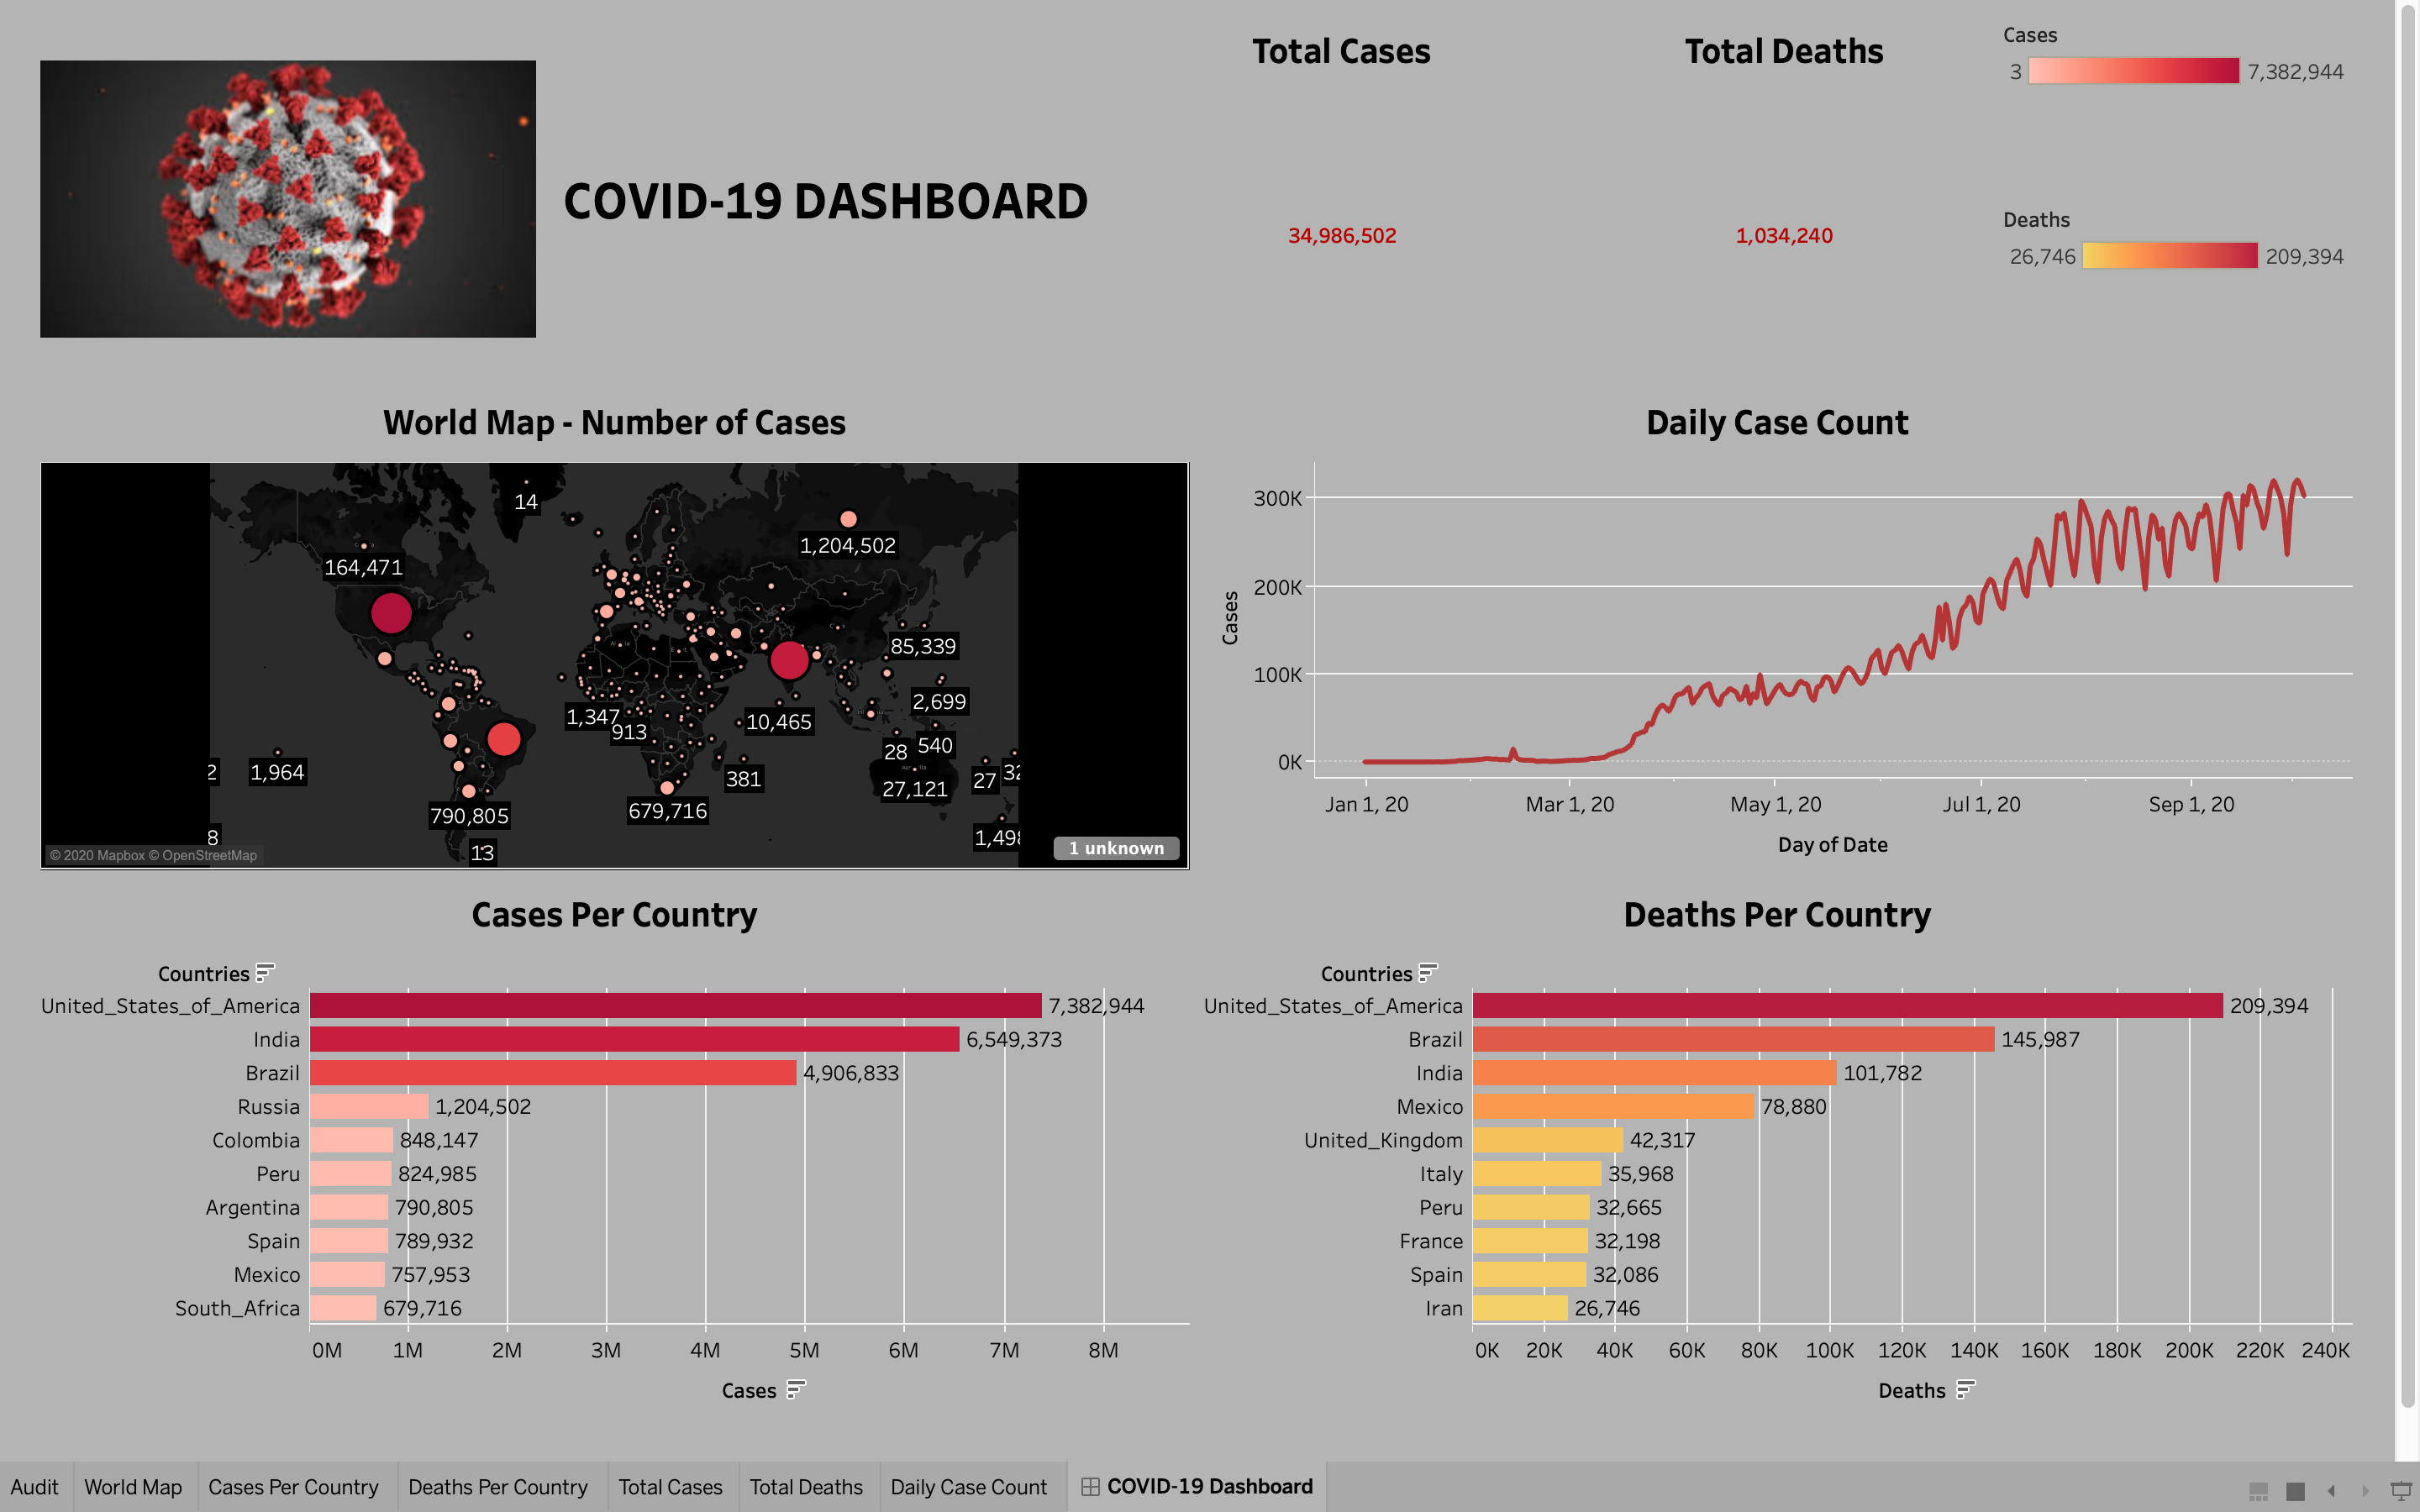

The page's visual inventory and layout, read from the dashboard file:
{"tool":"tableau","page":{"name":"COVID-19 Dashboard","canvas":[1400,900],"ordinal":0},"visuals":[{"type":"worksheet","box":[0,0,1400,900]},{"type":"worksheet","param":"horz","box":[8,8,303,221]},{"type":"worksheet","param":"horz","box":[8,8,303,221]},{"type":"worksheet","param":"Image/COVID19VirusImg.jpeg","box":[8,8,303,221]},{"type":"worksheet","param":"horz","box":[311,8,338,221]},{"type":"worksheet","box":[311,8,338,221]},{"type":"worksheet","title":"Total Cases","mark":"Automatic","box":[649,8,275,221]},{"type":"worksheet","title":"Total Deaths","mark":"Automatic","box":[924,8,252,221]},{"type":"worksheet","title":"World Map","mark":"Automatic","param":"[federated.1ik84ip0w8f39117lklpr0begxm9].[sum:Cases:qk]","box":[1176,8,216,110]},{"type":"worksheet","title":"Deaths Per Country","mark":"Automatic","rows":["Countries"],"cols":["Deaths"],"param":"[federated.1ik84ip0w8f39117lklpr0begxm9].[sum:Deaths:qk]","box":[1176,118,216,111]},{"type":"worksheet","param":"horz","box":[8,229,1384,293]},{"type":"worksheet","box":[8,229,1384,293]},{"type":"worksheet","title":"World Map","mark":"Automatic","box":[8,229,692,293]},{"type":"worksheet","title":"Daily Case Count","mark":"Automatic","rows":["Cases"],"cols":["Date"],"box":[700,229,692,293]},{"type":"worksheet","title":"Cases Per Country","mark":"Automatic","rows":["Countries"],"cols":["Cases"],"box":[8,522,692,370]},{"type":"worksheet","title":"Deaths Per Country","mark":"Automatic","rows":["Countries"],"cols":["Deaths"],"box":[700,522,692,370]}]}

Visuals, with their boxes on the page's 1400x900 design canvas (x1, y1, x2, y2). These are canvas units, not pixel positions in the 2420x1512 screenshot, which may show the page scaled, cropped or inside an application window:
worksheet: 0 0 1400 900
worksheet: 8 8 311 229
worksheet: 8 8 311 229
worksheet: 8 8 311 229
worksheet: 311 8 649 229
worksheet: 311 8 649 229
"Total Cases" worksheet: 649 8 924 229
"Total Deaths" worksheet: 924 8 1176 229
"World Map" worksheet: 1176 8 1392 118
"Deaths Per Country" worksheet: 1176 118 1392 229
worksheet: 8 229 1392 522
worksheet: 8 229 1392 522
"World Map" worksheet: 8 229 700 522
"Daily Case Count" worksheet: 700 229 1392 522
"Cases Per Country" worksheet: 8 522 700 892
"Deaths Per Country" worksheet: 700 522 1392 892
